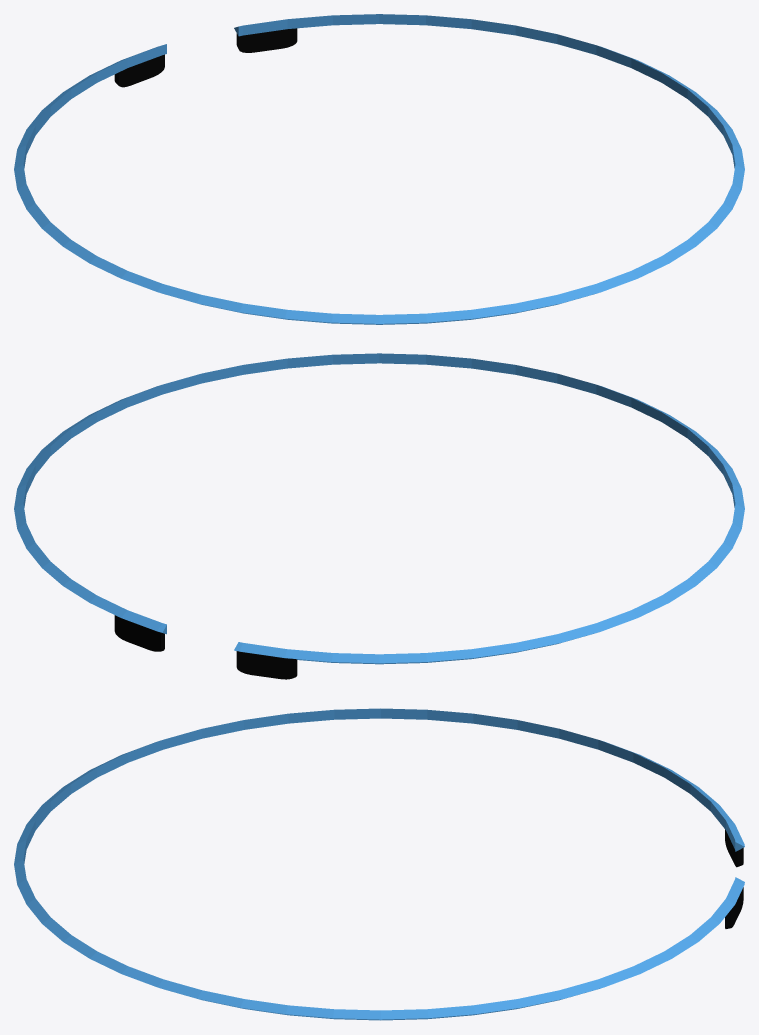
The model's file is RingV2.fbx.
3 renders of one model, top to bottom at view 1: azimuth 30°, elevation 25°; view 2: azimuth 150°, elevation 25°; view 3: azimuth 270°, elevation 25°, orthographic.
Visible parts, largest first — view 1: Torus.013, Cube.018; view 2: Torus.013, Cube.018; view 3: Torus.013, Cube.018.
Part boxes in pixels (x1,y1,x2,y2): Torus.013: (14,14,744,324); Cube.018: (114,28,297,87); Torus.013: (14,353,744,664); Cube.018: (114,615,297,679); Torus.013: (14,708,744,1020); Cube.018: (725,829,743,928).
Size of the model in its own units: 2870 by 127 by 2859.
